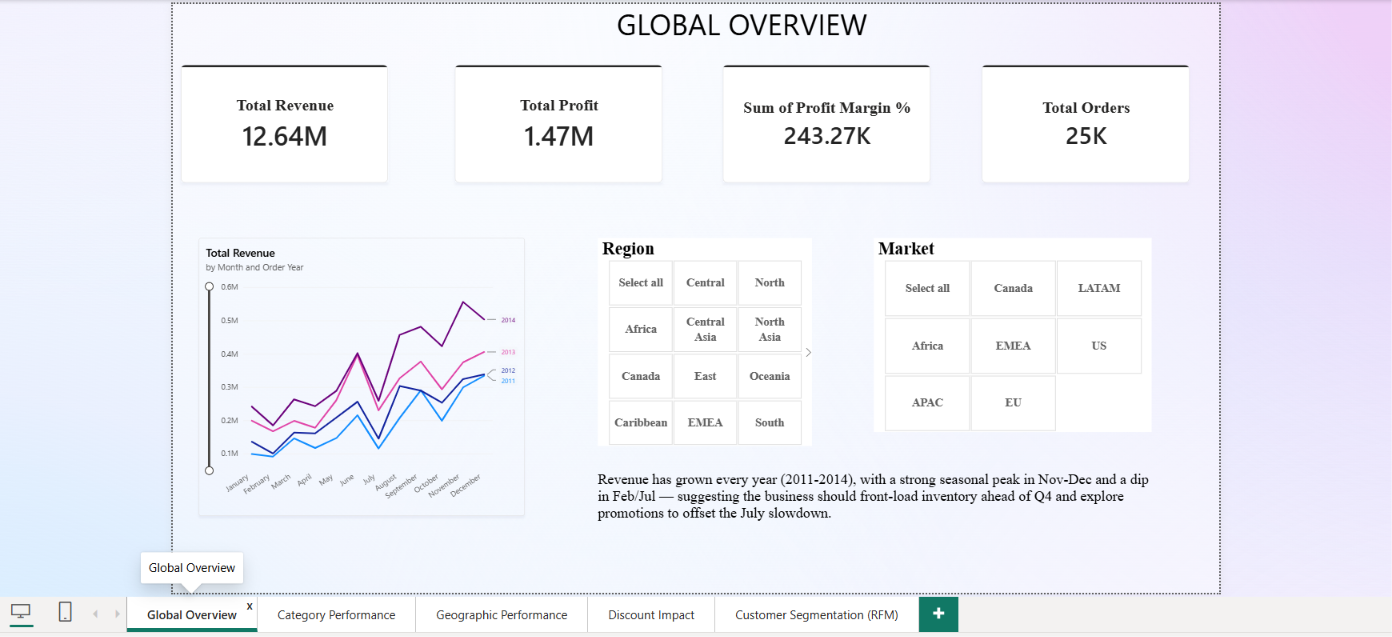

What the dashboard file says about the page in this screenshot:
{"tool":"powerbi","page":{"name":"Global Overview","canvas":[1920,1080],"ordinal":0},"visuals":[{"type":"cardVisual","fields":{"Data":["cleaned_global_superstore.Total Revenue"]},"box":[14.5,112.2,380.8,216.1],"z":0},{"type":"cardVisual","fields":{"Data":["cleaned_global_superstore.Total Profit"]},"box":[517.6,112.2,381,216],"z":1000},{"type":"cardVisual","fields":{"Data":["cleaned_global_superstore.Total Orders"]},"box":[1483.9,112.2,381,216],"z":2000},{"type":"cardVisual","fields":{"Data":["Sum(cleaned_global_superstore.Profit Margin %)"]},"box":[1008,112.2,381,216],"z":3000},{"type":"lineChart","fields":{"Category":["cleaned_global_superstore.Order Month.Variation.Date Hierarchy.Month"],"Series":["cleaned_global_superstore.Order Year"],"Y":["cleaned_global_superstore.Total Revenue"]},"box":[47.7,429.2,598,509.9],"z":4000},{"type":"slicer","fields":{"Values":["cleaned_global_superstore.Region"]},"box":[779.6,429.2,392.5,381.5],"z":5000},{"type":"slicer","fields":{"Values":["cleaned_global_superstore.Market"]},"box":[1285.8,429.2,509.9,355.8],"z":6000},{"type":"textbox","box":[779.6,856.6,1016.2,205.4],"z":7000},{"type":"textbox","box":[814.4,0,471.4,111.9],"z":8000}]}

Visuals, with their boxes on the page's 1920x1080 design canvas (x1, y1, x2, y2). These are canvas units, not pixel positions in the 1392x637 screenshot, which may show the page scaled, cropped or inside an application window:
cardVisual - cleaned_global_superstore.Total Revenue: 14,112,395,328
cardVisual - cleaned_global_superstore.Total Profit: 518,112,899,328
cardVisual - cleaned_global_superstore.Total Orders: 1484,112,1865,328
cardVisual - Sum(cleaned_global_superstore.Profit Margin %): 1008,112,1389,328
lineChart - cleaned_global_superstore.Order Month.Variation.Date Hierarchy.Month x cleaned_global_superstore.Order Year: 48,429,646,939
slicer - cleaned_global_superstore.Region: 780,429,1172,811
slicer - cleaned_global_superstore.Market: 1286,429,1796,785
textbox: 780,857,1796,1062
textbox: 814,0,1286,112
